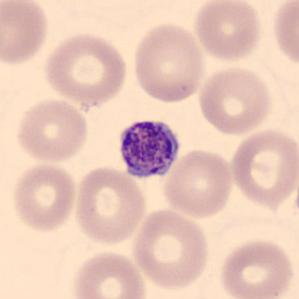Lymphocyte: (112, 113, 184, 184)
RBC: (130, 206, 212, 292), (41, 30, 130, 107), (129, 20, 207, 104), (71, 163, 148, 247), (195, 63, 274, 137), (228, 126, 298, 209), (160, 146, 236, 219), (12, 96, 90, 165), (9, 161, 80, 234), (217, 235, 296, 299), (191, 0, 265, 64), (68, 247, 149, 299), (0, 0, 51, 67), (269, 0, 299, 71)
